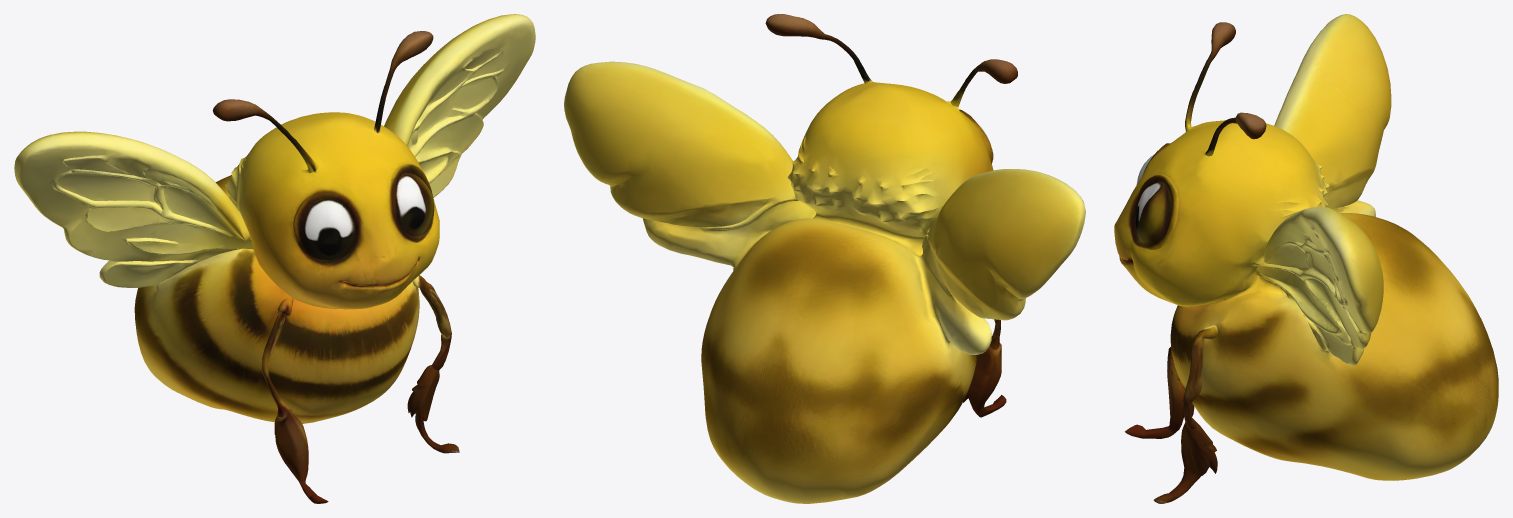
Rendered from bee.glb.
3 renders of one model, left to right at view 1: azimuth 30°, elevation 25°; view 2: azimuth 150°, elevation 25°; view 3: azimuth 270°, elevation 25°, orthographic.
Visible parts, largest first — view 1: model; view 2: model; view 3: model.
Part boxes in pixels (x1,y1,x2,y2): model: (14, 14, 535, 503); model: (564, 14, 1085, 503); model: (1114, 14, 1498, 503).
Bounding box in the file's own units: 1.9 × 1.38 × 1.21.
1 material, 1 textured.
